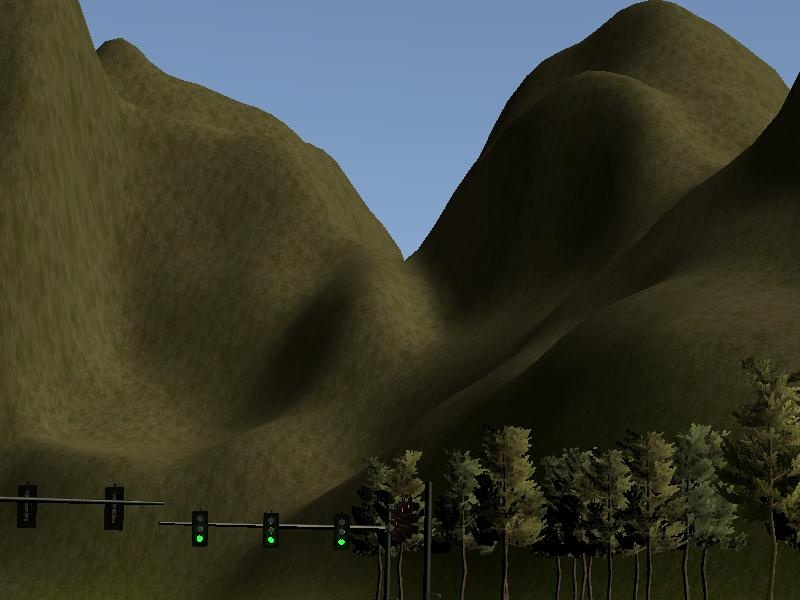traffic_light_green: (160, 498, 381, 561)
